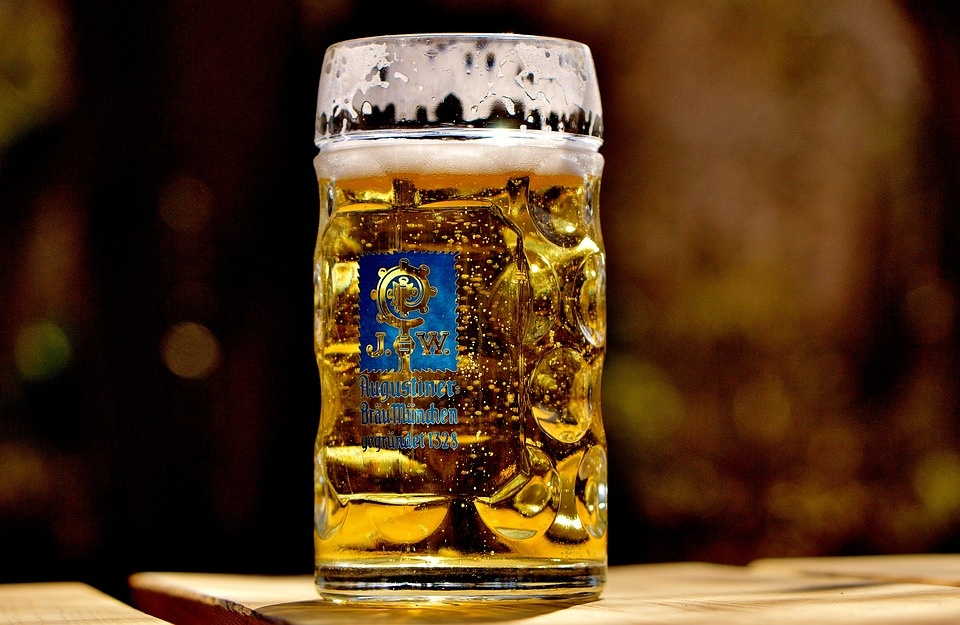glassBeer: (315, 30, 608, 596)
